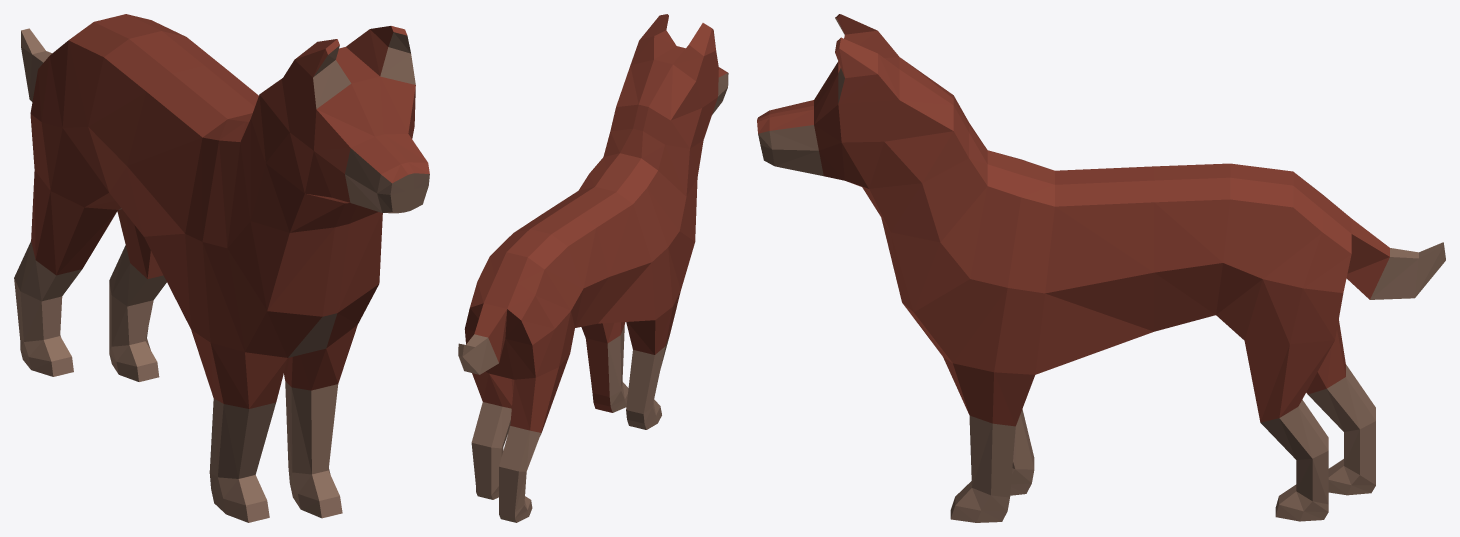
The model's file is house_3_dog.FBX.
The picture shows the model from 3 angles, left to right: view 1: azimuth 30°, elevation 25°; view 2: azimuth 150°, elevation 25°; view 3: azimuth 270°, elevation 25°; orthographic projection. The views are drawn at different scales.
Visible parts, largest first — view 1: dog_2; view 2: dog_2; view 3: dog_2.
Boxes of the visible parts, x1=… form: dog_2: x1=14, y1=14, x2=429, y2=522; dog_2: x1=458, y1=14, x2=728, y2=522; dog_2: x1=757, y1=14, x2=1445, y2=522.
Bounding box in the file's own units: 31.1 × 117 × 153.
